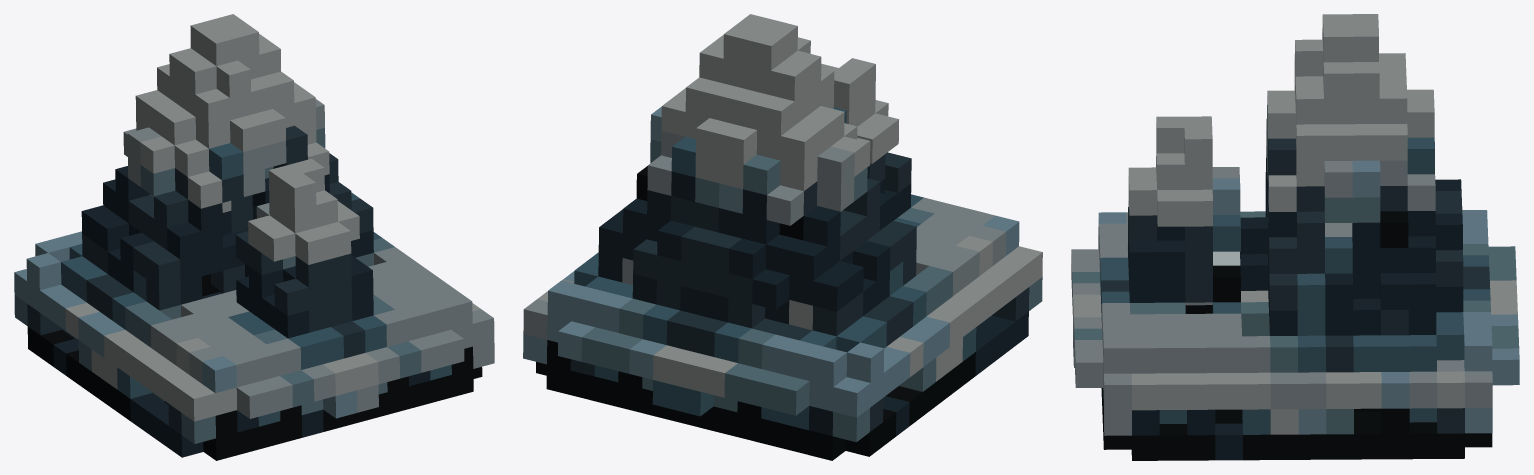
The model's file is snow_mountain_ours2.glb.
The picture shows the model from 3 angles, left to right: view 1: azimuth 30°, elevation 25°; view 2: azimuth 150°, elevation 25°; view 3: azimuth 270°, elevation 25°; orthographic projection. The views are drawn at different scales.
Parts seen in each view (by area): view 1: snow_mountain_50_gumbel; view 2: snow_mountain_50_gumbel; view 3: snow_mountain_50_gumbel.
Boxes of the visible parts, x1,y1,x2,y2 form: snow_mountain_50_gumbel: (14,14,494,460); snow_mountain_50_gumbel: (523,14,1042,460); snow_mountain_50_gumbel: (1071,14,1519,460).
Bounding box in the file's own units: 14.25 × 14.12 × 16.16.
